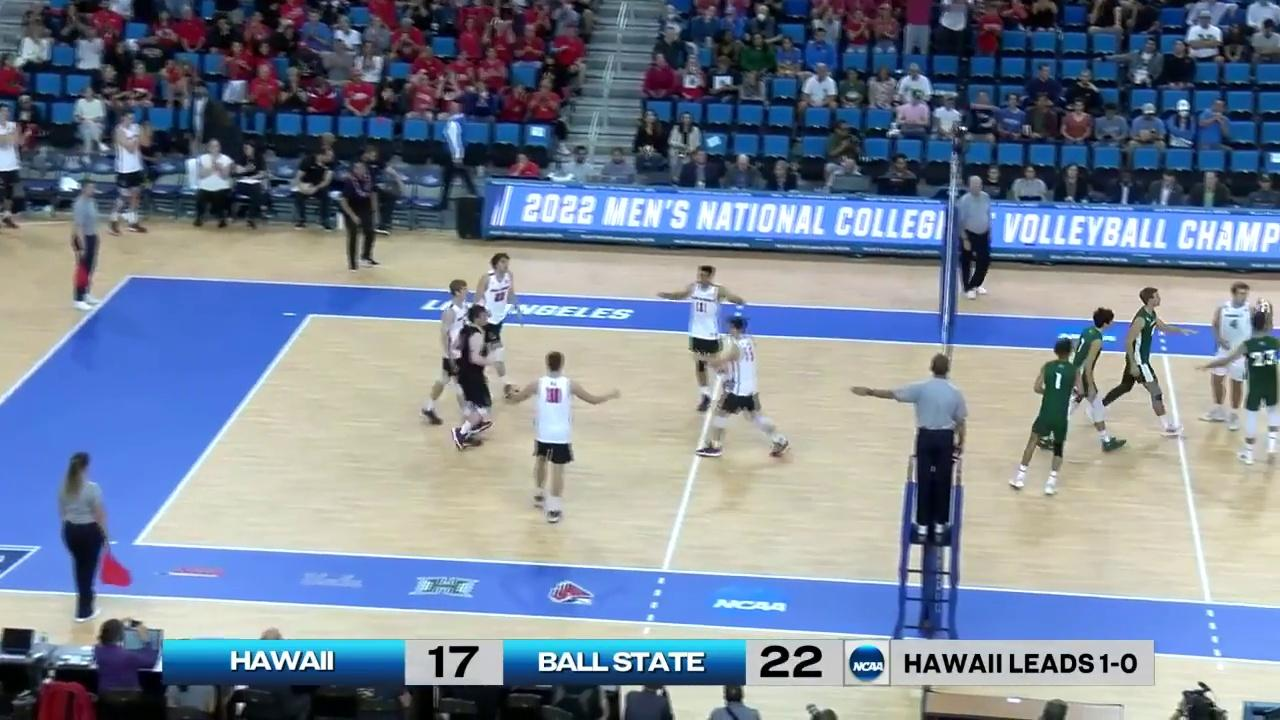player: (513, 352, 601, 521), (1092, 287, 1185, 435), (693, 315, 788, 457), (659, 266, 747, 410), (1039, 307, 1126, 452), (1008, 339, 1081, 495), (419, 279, 491, 431), (1229, 312, 1280, 466), (466, 252, 519, 400), (1200, 284, 1254, 427), (451, 305, 495, 451)
refree: (896, 354, 974, 537), (57, 452, 116, 617), (956, 176, 993, 299), (70, 179, 103, 309)
